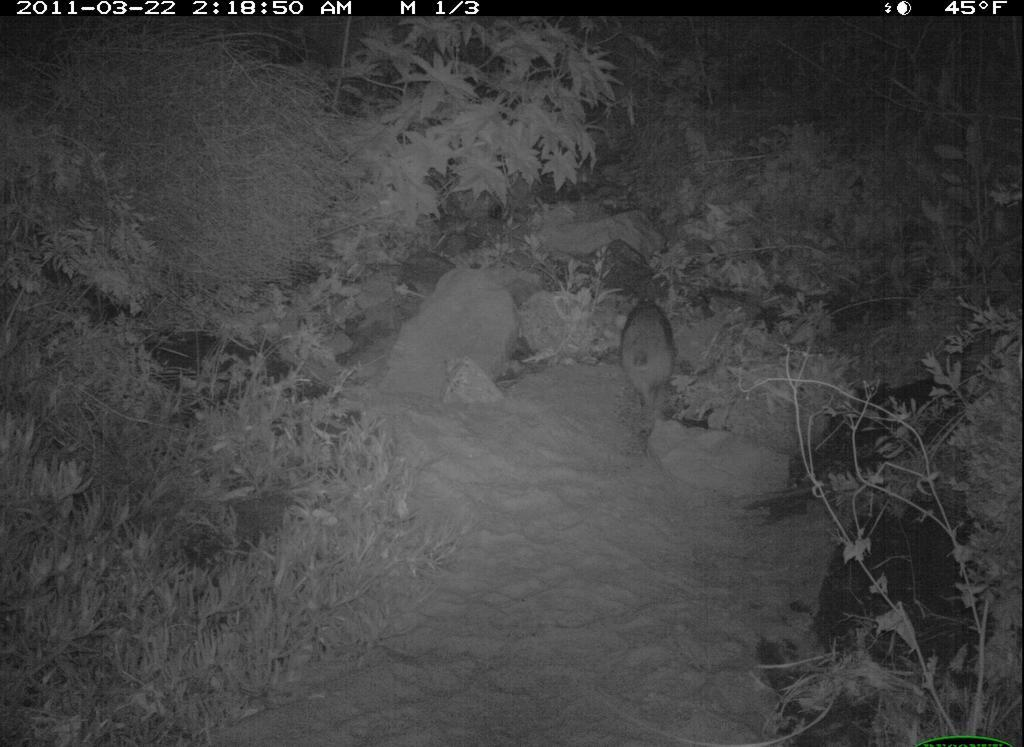raccoon: (615, 286, 698, 436)
